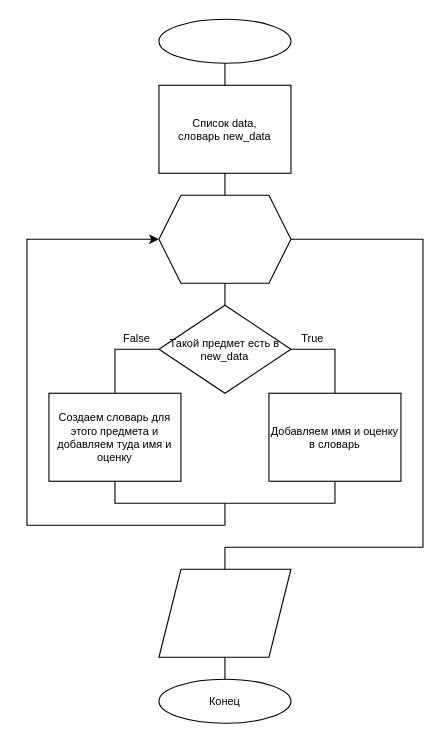
Some shapes in this 443 by 743 pixel diagram are drawn without their labels. Each missing label, with the box of its shape:
Вывод new_data: (158, 568, 291, 657)
Начало: (158, 18, 291, 63)
Перебор элементов из data: (158, 194, 291, 283)
